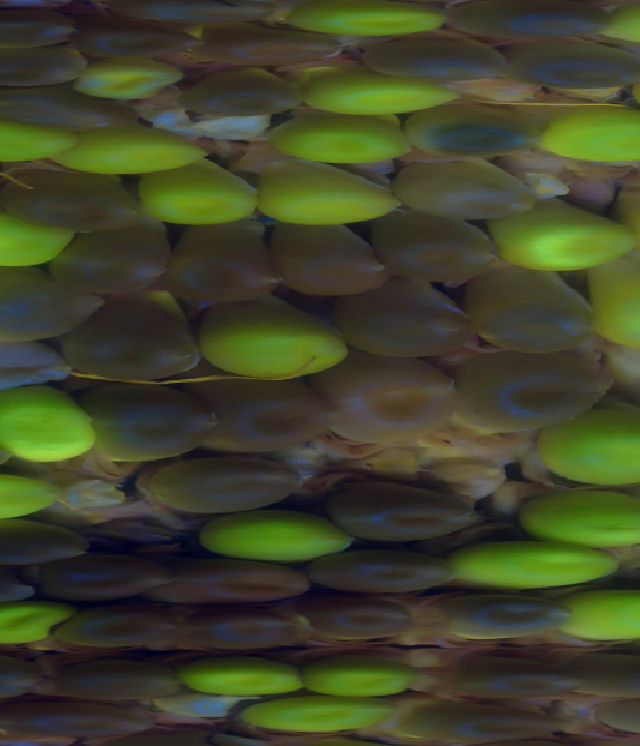fluorescent: (193, 296, 349, 384), (261, 157, 397, 221), (135, 167, 276, 225), (198, 513, 358, 563), (453, 541, 623, 588), (0, 387, 94, 472), (501, 207, 630, 265), (304, 69, 456, 117), (539, 403, 640, 473), (271, 115, 408, 163), (76, 133, 212, 180), (510, 492, 640, 540), (73, 59, 201, 107), (286, 1, 446, 37), (227, 698, 387, 733), (546, 107, 640, 161), (173, 659, 309, 694), (0, 213, 78, 273), (301, 655, 412, 696), (595, 265, 640, 354), (572, 589, 640, 641), (0, 474, 64, 522), (0, 600, 72, 641), (0, 118, 73, 158), (609, 1, 640, 47)
nonfluorescent: (321, 357, 459, 446), (470, 267, 601, 352), (86, 378, 211, 465), (340, 284, 478, 361), (462, 355, 611, 425), (256, 218, 388, 294), (204, 376, 325, 458), (144, 458, 321, 510), (333, 481, 480, 543), (366, 214, 500, 280), (388, 159, 534, 217), (84, 302, 206, 370), (441, 648, 591, 702), (359, 32, 504, 87), (0, 169, 143, 224), (496, 40, 640, 94), (408, 700, 569, 746), (451, 1, 612, 47), (59, 229, 173, 292), (164, 228, 269, 296), (310, 552, 464, 596), (0, 699, 166, 739), (0, 89, 134, 135), (429, 598, 577, 639), (185, 69, 306, 118), (410, 106, 532, 154), (303, 599, 422, 648), (158, 563, 301, 603), (44, 658, 185, 696), (182, 614, 317, 652), (58, 611, 185, 650), (0, 273, 69, 343), (206, 33, 347, 67), (40, 561, 162, 598), (78, 24, 181, 61), (0, 343, 78, 389), (0, 524, 92, 561), (0, 50, 88, 88), (0, 13, 86, 51), (577, 651, 640, 692), (589, 692, 640, 729), (0, 654, 40, 694), (0, 566, 33, 603)
